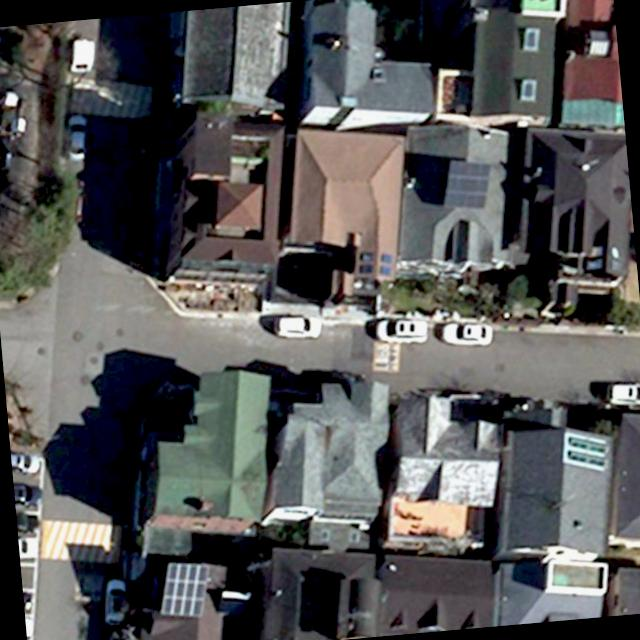solar: (152, 556, 218, 625), (439, 154, 496, 214)
